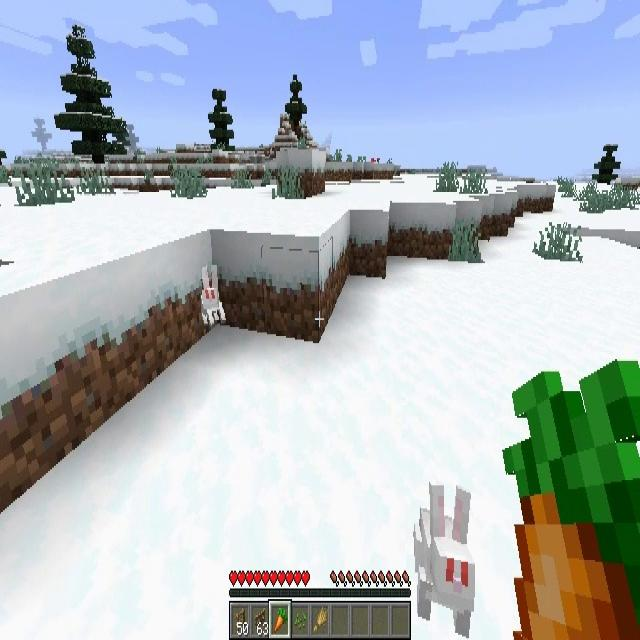rabbit: (413, 480, 475, 638), (201, 264, 226, 325)
